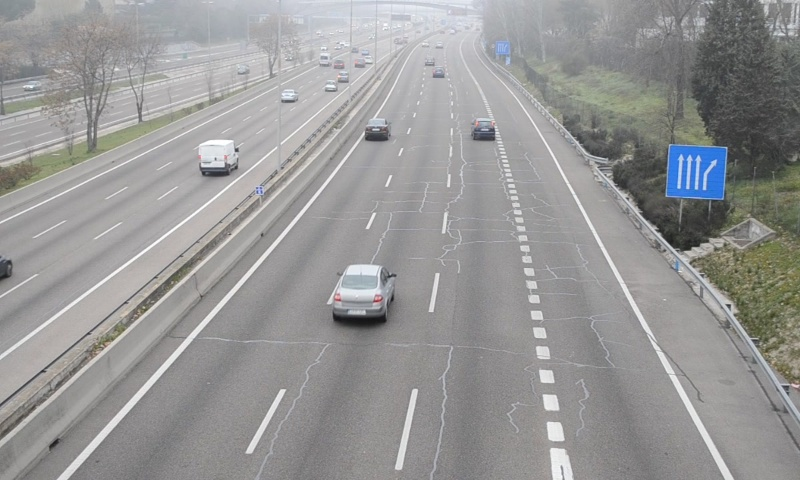car: (332, 264, 392, 320), (364, 117, 390, 139), (471, 118, 496, 140)
